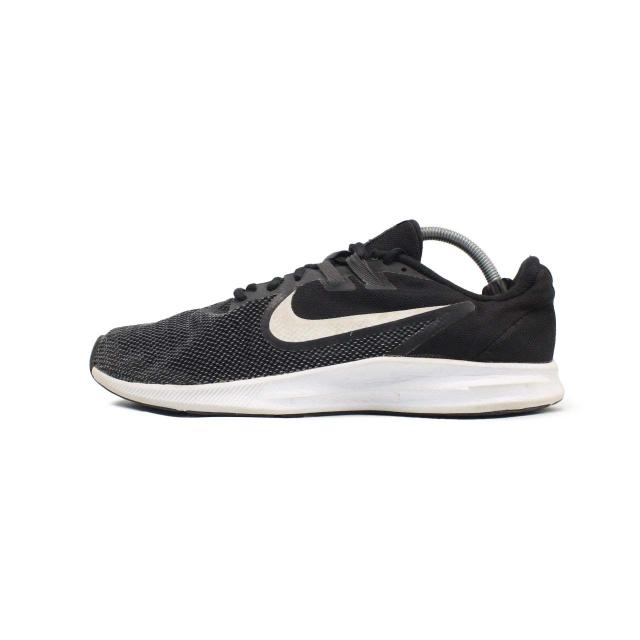heel: (482, 255, 554, 364)
midsole: (89, 336, 564, 417)
uppersole: (94, 220, 485, 380)
